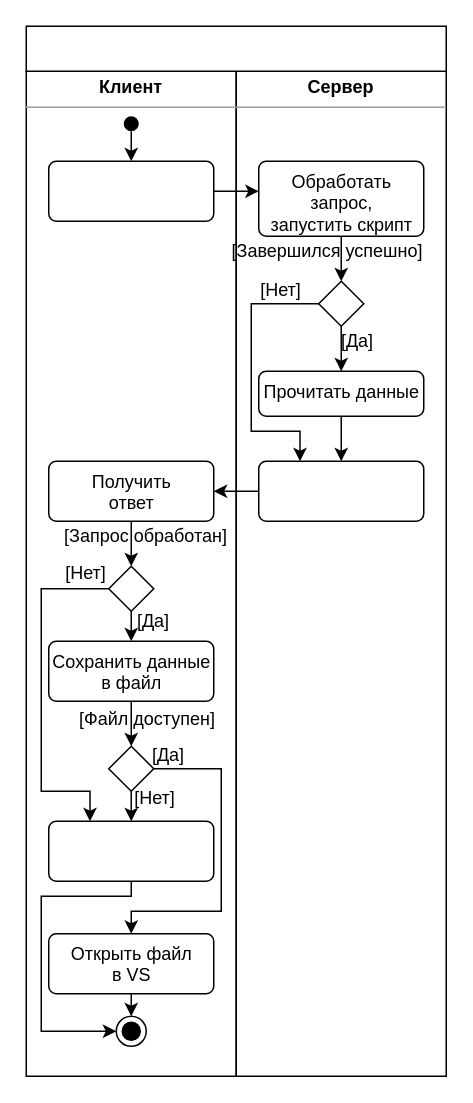
The diagram is 473 pixels wide and 1103 high, and some of its shapes have lost their labels. The shapes that lost their labels are listed below. From the top down, each one's centre as x and y in pixels, then its label:
point (235, 48): Дизассемблирование
point (130, 190): Отправить запрос
point (340, 490): Сформировать ответ
point (130, 850): Показать ошибку
